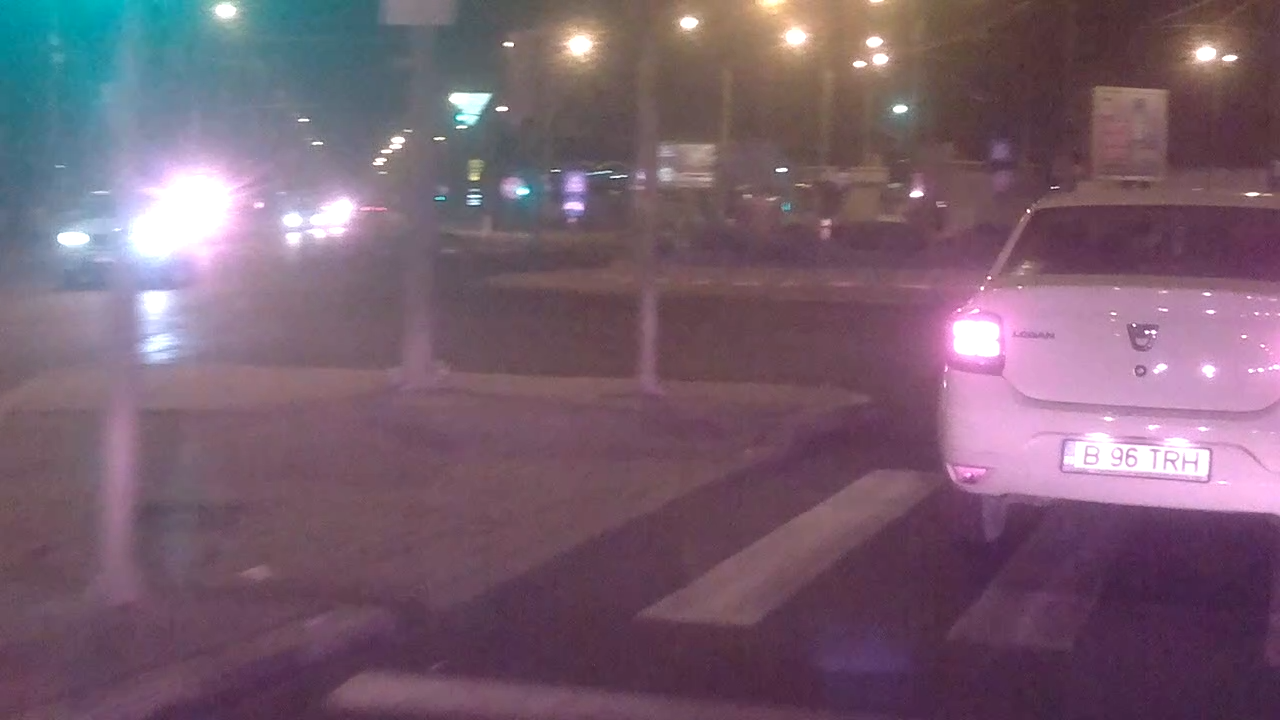license-plate: (1055, 432, 1217, 487)
